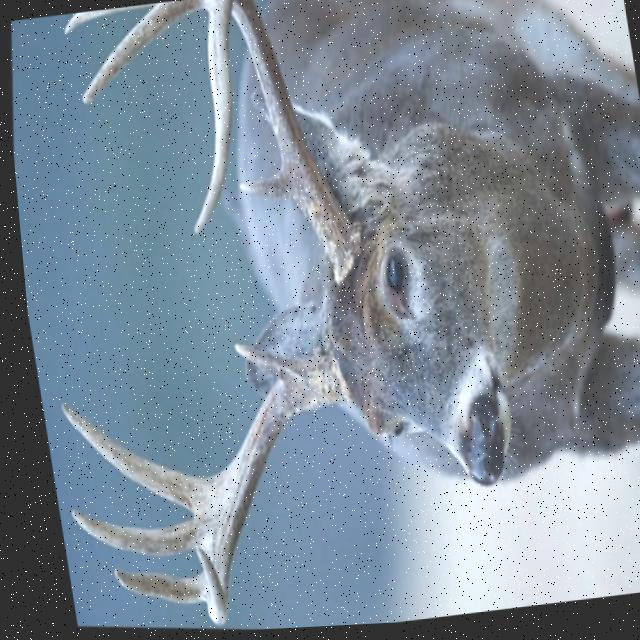L-F: (185, 348, 343, 627)
L-G1: (226, 344, 284, 383)
L-G2: (51, 402, 189, 515)
L-G3: (60, 508, 187, 557)
L-G4: (101, 569, 195, 605)
R-F: (187, 0, 353, 286)
R-G1: (234, 169, 288, 202)
R-G2: (60, 4, 155, 37)
R-G3: (78, 0, 210, 106)
